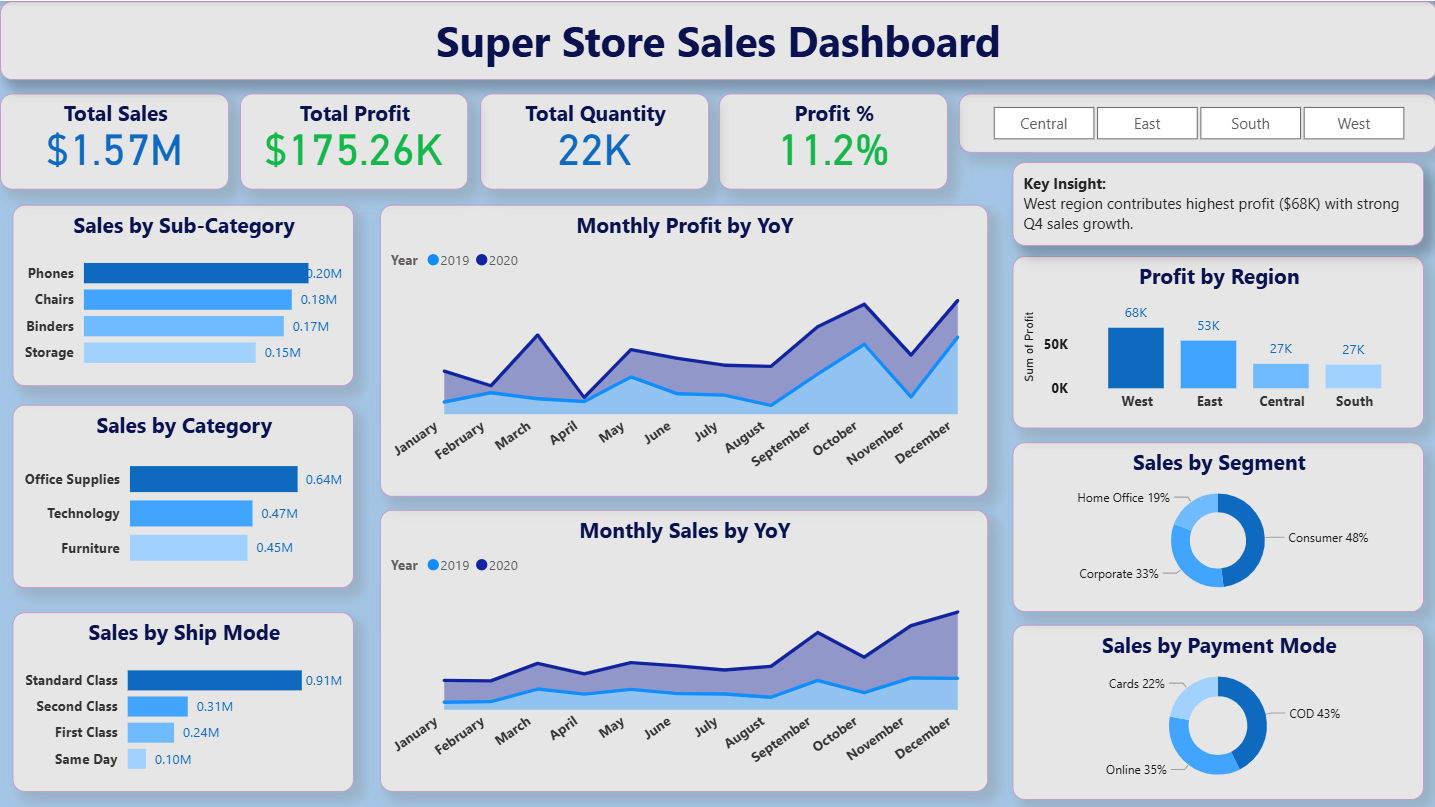

The dashboard page shown, as its layout file describes it:
{"tool":"powerbi","page":{"name":"Page 1","canvas":[1280,720],"ordinal":0},"visuals":[{"type":"barChart","title":"Sales by Category","fields":{"Y":["Sum(SuperStore_Sales_Dataset.Sales)"],"Category":["SuperStore_Sales_Dataset.Category"]},"box":[11.4,360,304.3,162.9],"z":0},{"type":"barChart","title":"Sales by Sub-Category","fields":{"Y":["Sum(SuperStore_Sales_Dataset.Sales)"],"Category":["SuperStore_Sales_Dataset.Sub-Category"]},"box":[11.4,181.4,304.3,161.4],"z":1000},{"type":"barChart","title":"Sales by Ship Mode","fields":{"Y":["Sum(SuperStore_Sales_Dataset.Sales)"],"Category":["SuperStore_Sales_Dataset.Ship Mode"]},"box":[11.4,544.3,304.3,160],"z":2000},{"type":"stackedAreaChart","title":"Monthly Sales by YoY","fields":{"Category":["SuperStore_Sales_Dataset.Order Date.Variation.Date Hierarchy.Month"],"Y":["Sum(SuperStore_Sales_Dataset.Sales)"],"Series":["SuperStore_Sales_Dataset.Order Date.Variation.Date Hierarchy.Year"]},"box":[338.6,452.9,541.4,251.4],"z":3000},{"type":"stackedAreaChart","title":"Monthly Profit by YoY","fields":{"Category":["SuperStore_Sales_Dataset.Order Date.Variation.Date Hierarchy.Month"],"Series":["SuperStore_Sales_Dataset.Order Date.Variation.Date Hierarchy.Year"],"Y":["Sum(SuperStore_Sales_Dataset.Profit)"]},"box":[338.6,181.4,541.4,260],"z":4000},{"type":"donutChart","title":"Sales by Payment Mode","fields":{"Category":["SuperStore_Sales_Dataset.Payment Mode"],"Y":["Sum(SuperStore_Sales_Dataset.Sales)"]},"box":[901.2,555,366.8,155.6],"z":5000},{"type":"donutChart","title":"Sales by Segment","fields":{"Category":["SuperStore_Sales_Dataset.Segment"],"Y":["Sum(SuperStore_Sales_Dataset.Sales)"]},"box":[901.2,393.3,366.8,150.8],"z":6000},{"type":"slicer","fields":{"Values":["SuperStore_Sales_Dataset.Region"]},"box":[854.3,82.9,425.7,52.9],"z":7000},{"type":"card","title":"Total Sales","fields":{"Values":["Sum(SuperStore_Sales_Dataset.Sales)"]},"box":[0,82.9,204.3,85.7],"z":8000},{"type":"textbox","box":[0,0,1280,70],"z":9000},{"type":"card","title":"Profit %","fields":{"Values":["SuperStore_Sales_Dataset.Profit %"]},"box":[640,82.9,204.3,85.7],"z":10000},{"type":"card","title":"Total Quantity","fields":{"Values":["Sum(SuperStore_Sales_Dataset.Quantity)"]},"box":[427.1,82.9,204.3,85.7],"z":11000},{"type":"card","title":"Total Profit","fields":{"Values":["Sum(SuperStore_Sales_Dataset.Profit)"]},"box":[214.3,82.9,202.9,85.7],"z":12000},{"type":"clusteredColumnChart","title":"Profit by Region","fields":{"Category":["SuperStore_Sales_Dataset.Region"],"Y":["Sum(SuperStore_Sales_Dataset.Profit)"]},"box":[901.2,226.8,366.8,153.2],"z":13000},{"type":"textbox","box":[901.2,143.6,366.8,74.8],"z":14000}]}

Visuals, with their boxes in screenshot pixels (x1, y1, x2, y2), scaled from the page's 1280x720 canvas onto the 1435x807 screenshot:
"Sales by Category" barChart: x1=13, y1=404, x2=354, y2=586
"Sales by Sub-Category" barChart: x1=13, y1=203, x2=354, y2=384
"Sales by Ship Mode" barChart: x1=13, y1=610, x2=354, y2=789
"Monthly Sales by YoY" stackedAreaChart: x1=380, y1=508, x2=987, y2=789
"Monthly Profit by YoY" stackedAreaChart: x1=380, y1=203, x2=987, y2=495
"Sales by Payment Mode" donutChart: x1=1010, y1=622, x2=1422, y2=796
"Sales by Segment" donutChart: x1=1010, y1=441, x2=1422, y2=610
slicer - SuperStore_Sales_Dataset.Region: x1=958, y1=93, x2=1434, y2=152
"Total Sales" card: x1=0, y1=93, x2=229, y2=189
textbox: x1=0, y1=0, x2=1434, y2=78
"Profit %" card: x1=718, y1=93, x2=947, y2=189
"Total Quantity" card: x1=479, y1=93, x2=708, y2=189
"Total Profit" card: x1=240, y1=93, x2=468, y2=189
"Profit by Region" clusteredColumnChart: x1=1010, y1=254, x2=1422, y2=426
textbox: x1=1010, y1=161, x2=1422, y2=245
